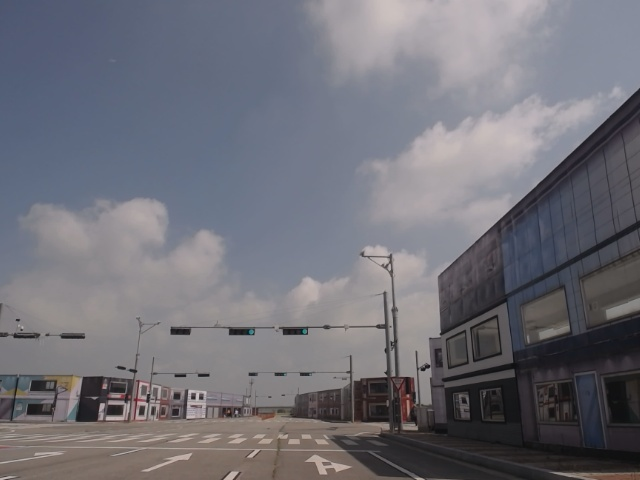straight_green_4: (229, 327, 256, 336), (283, 327, 308, 336)
